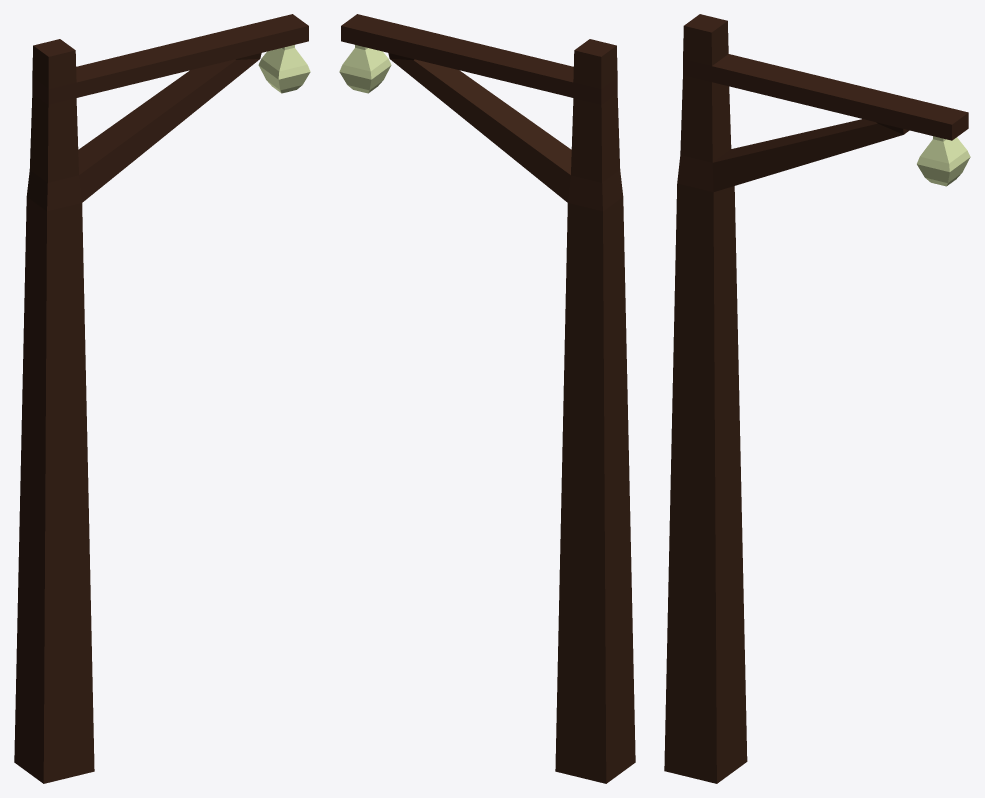
File: lamppost.fbx
3 renders of one model, left to right at view 1: azimuth 30°, elevation 25°; view 2: azimuth 150°, elevation 25°; view 3: azimuth 330°, elevation 25°, orthographic. The views are drawn at different scales.
Parts seen in each view (by area): view 1: Cube; view 2: Cube; view 3: Cube.
Boxes of the visible parts, <box> form: Cube: <box>14,14,310,783</box>; Cube: <box>339,14,635,783</box>; Cube: <box>664,14,970,783</box>.
Bounding box in the file's own units: 114 × 288 × 21.33.
